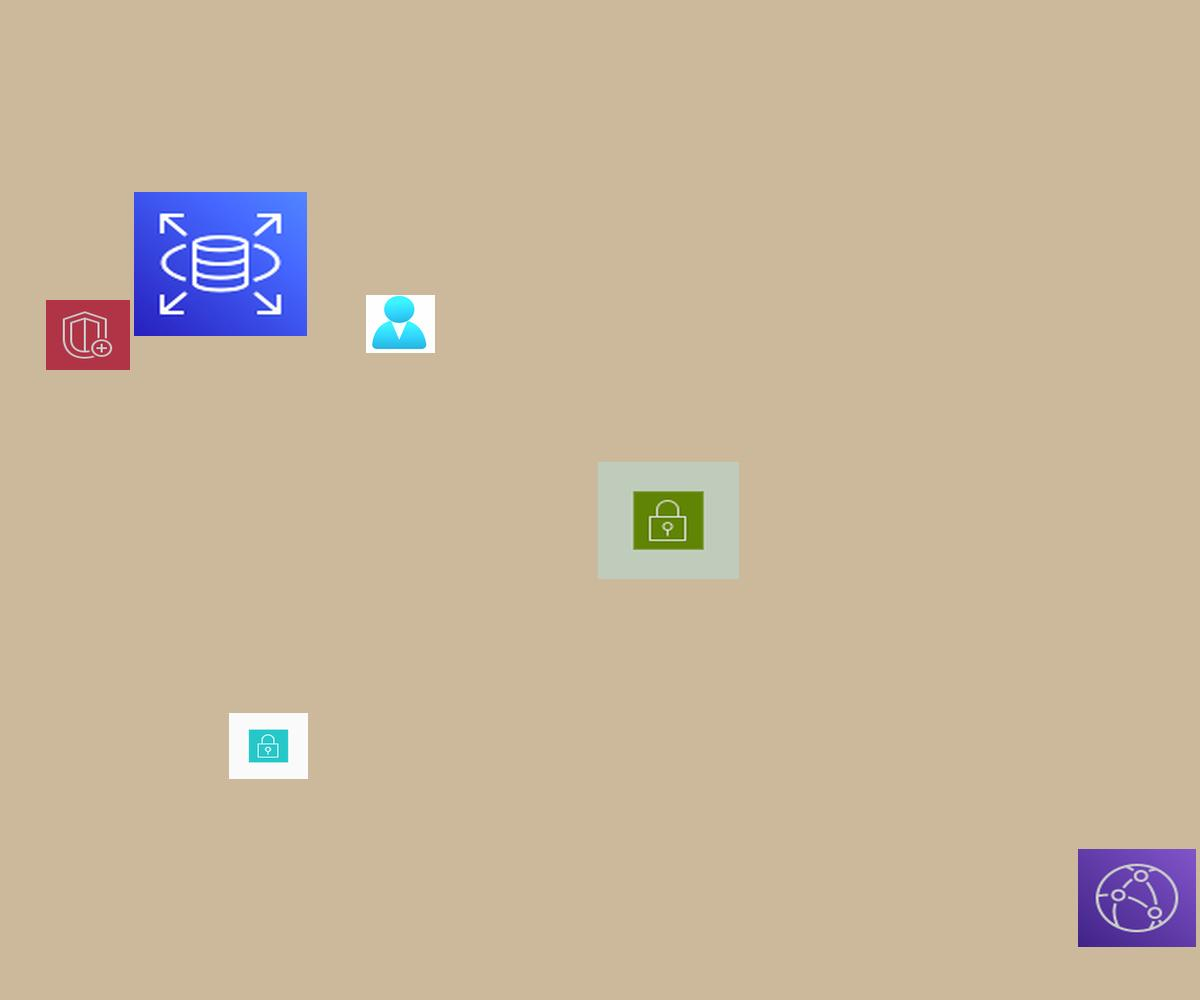AWS-CloudFront: (1078, 849, 1196, 947)
AWS-Private-subnet: (229, 713, 308, 779)
AWS-Public-subnet: (598, 462, 739, 579)
AWS-RDS: (134, 192, 307, 336)
AWS-Shield: (46, 300, 130, 370)
Azure_users: (366, 295, 435, 353)
